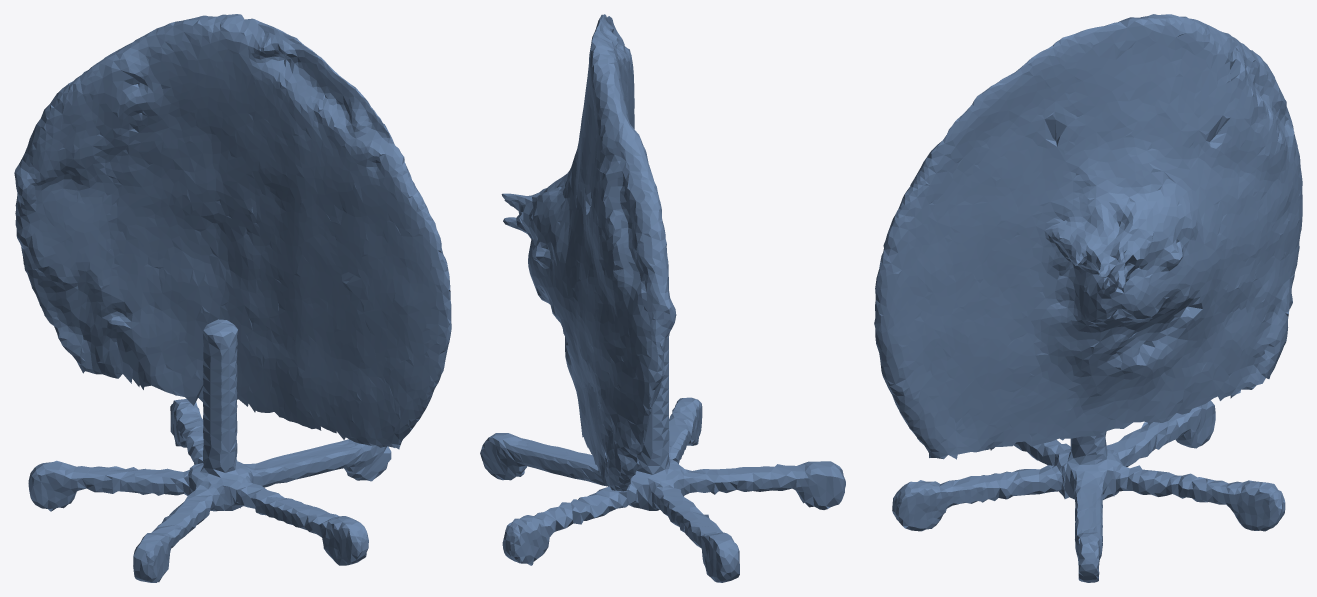
Rendered from improved.glb.
3 renders of one model, left to right at view 1: azimuth 30°, elevation 25°; view 2: azimuth 150°, elevation 25°; view 3: azimuth 270°, elevation 25°, orthographic. The views are drawn at different scales.
Parts seen in each view (by area): view 1: world; view 2: world; view 3: world.
Part boxes in pixels (x1,y1,x2,y2): world: (14,14,451,582); world: (480,14,845,582); world: (874,14,1302,582).
Bounding box in the file's own units: 1.32 × 1.97 × 1.51.
